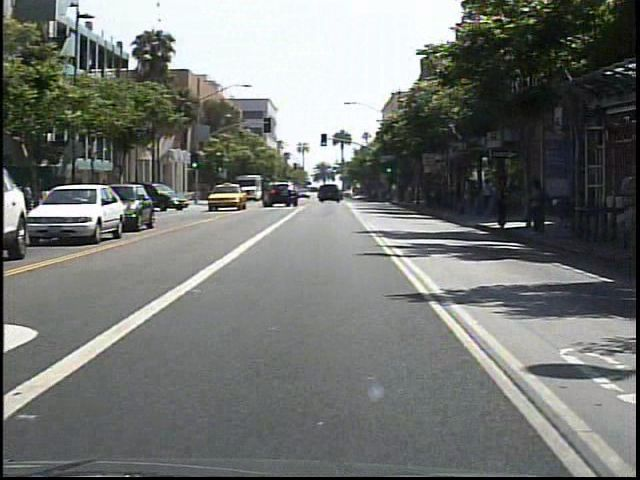person: (495, 164, 519, 233), (528, 177, 551, 242), (483, 178, 499, 218)
